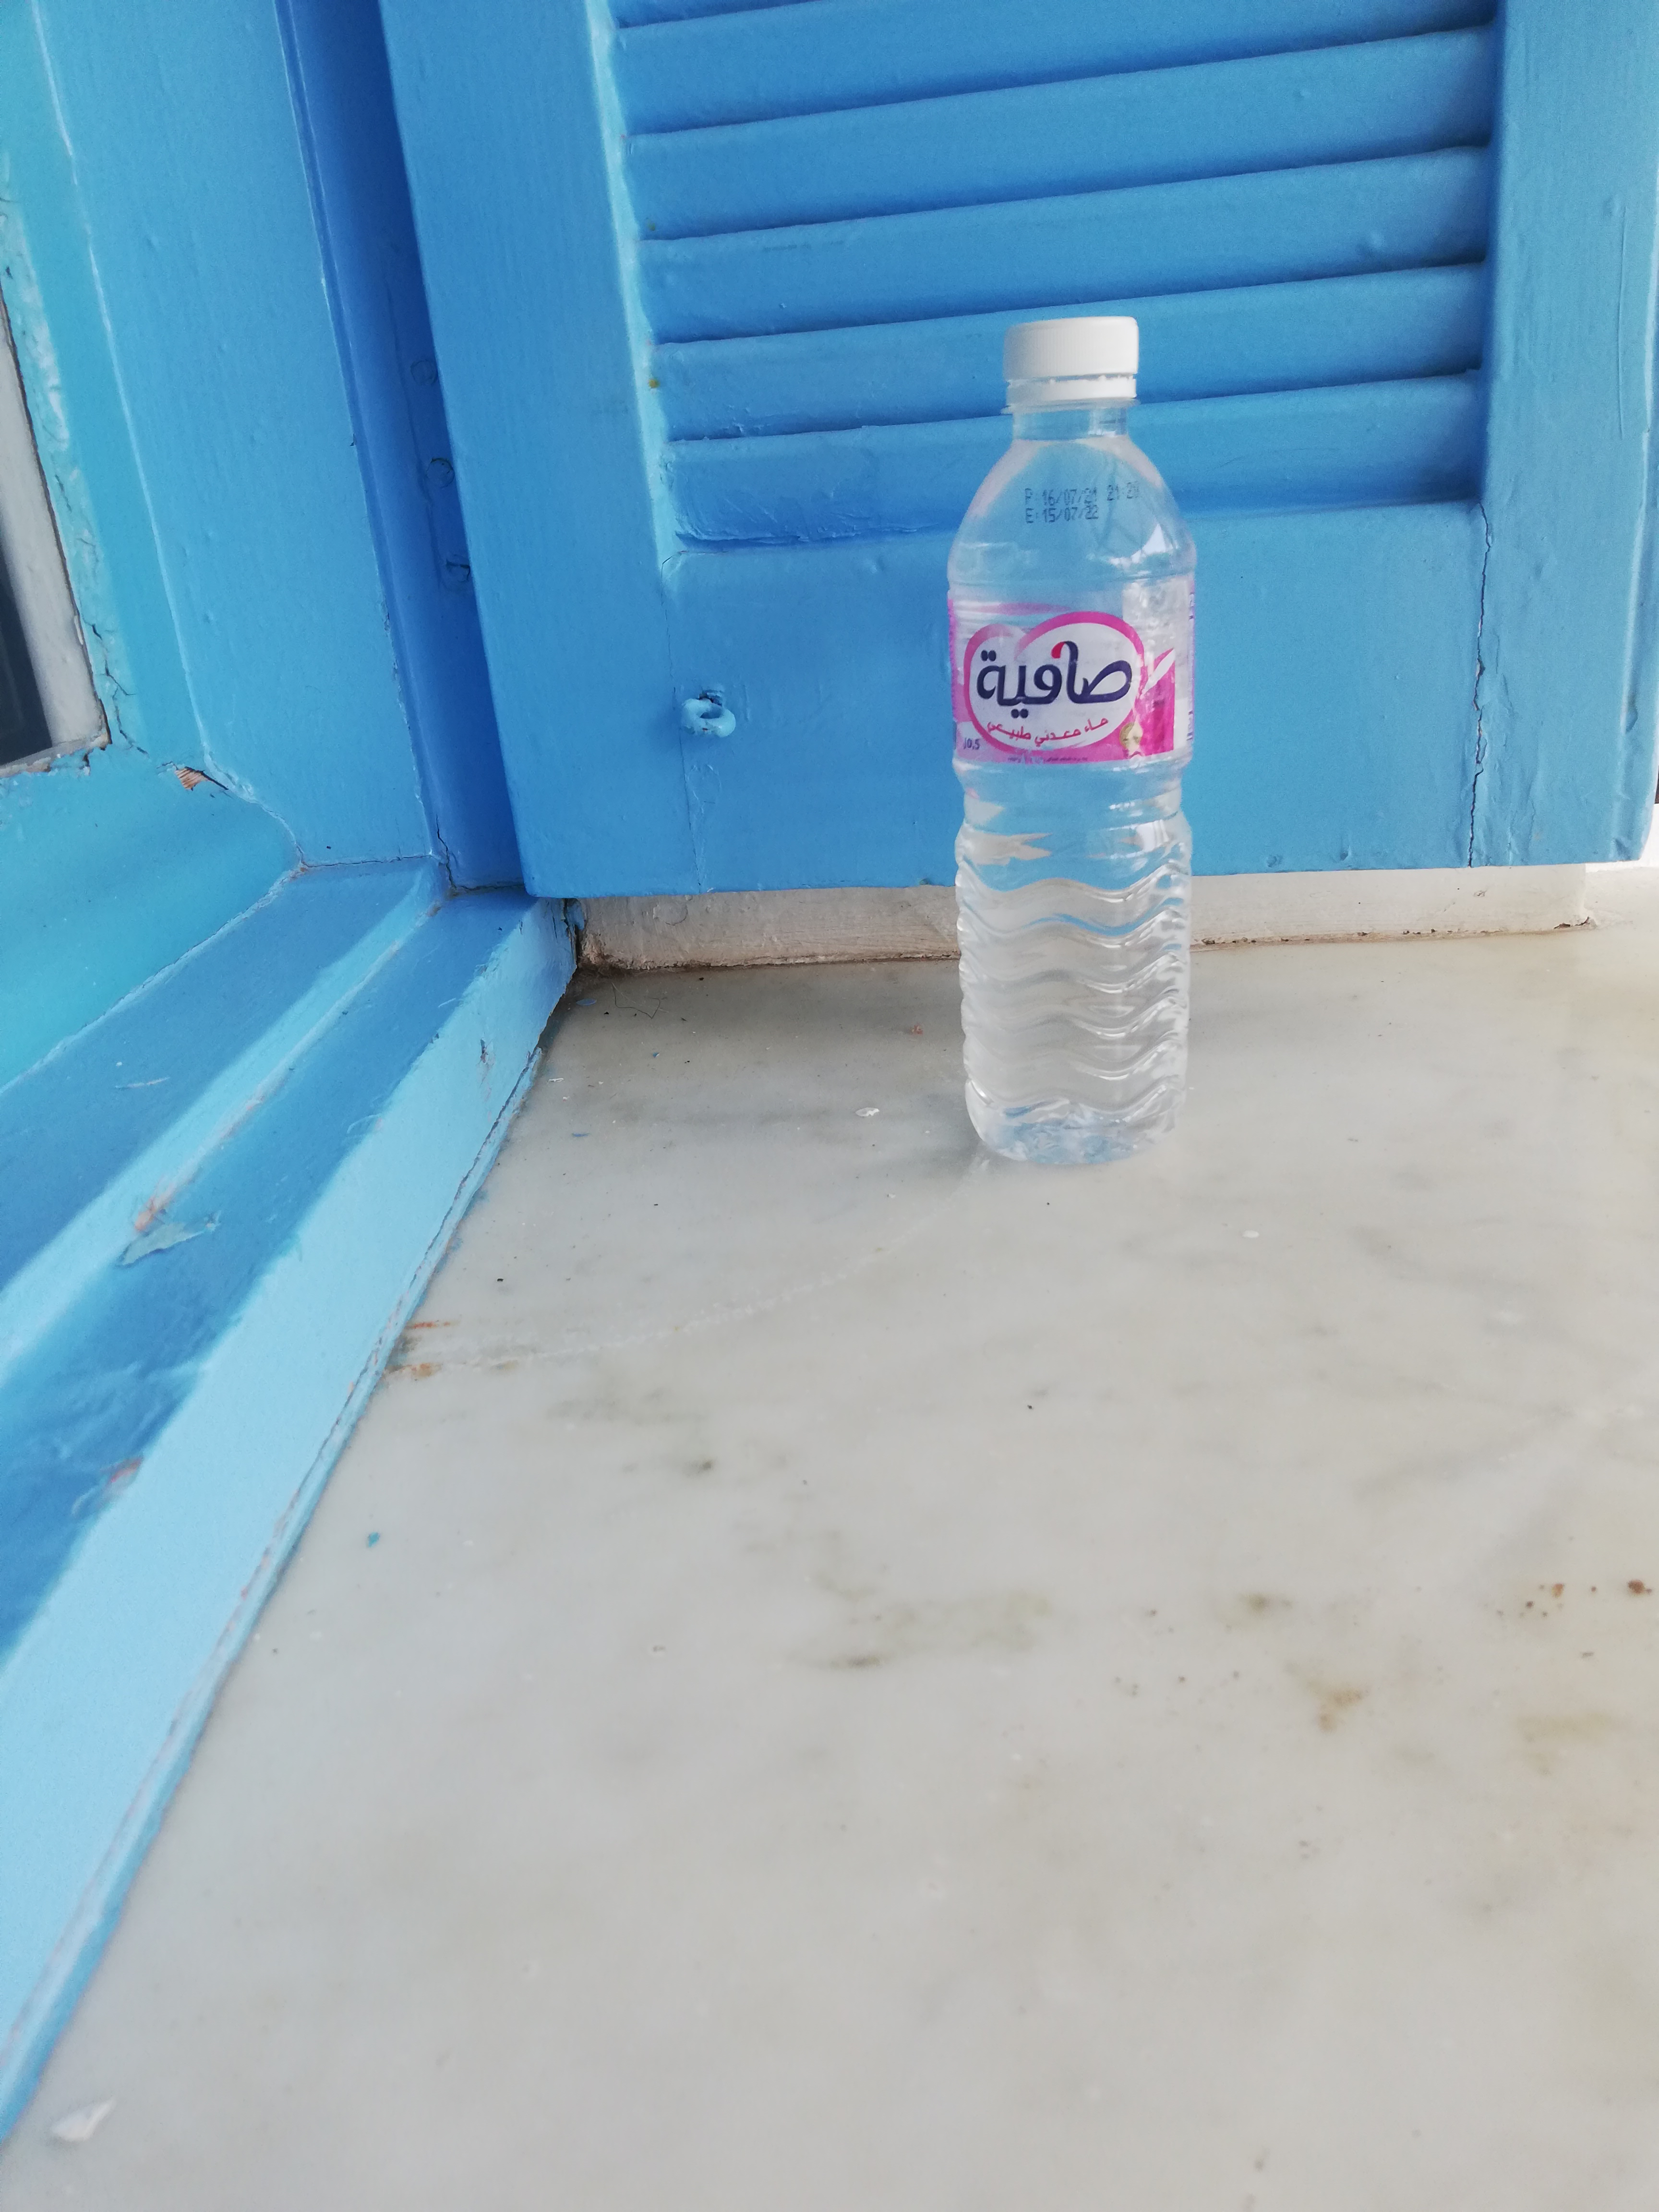Eau safia: (932, 314, 1202, 1153)
